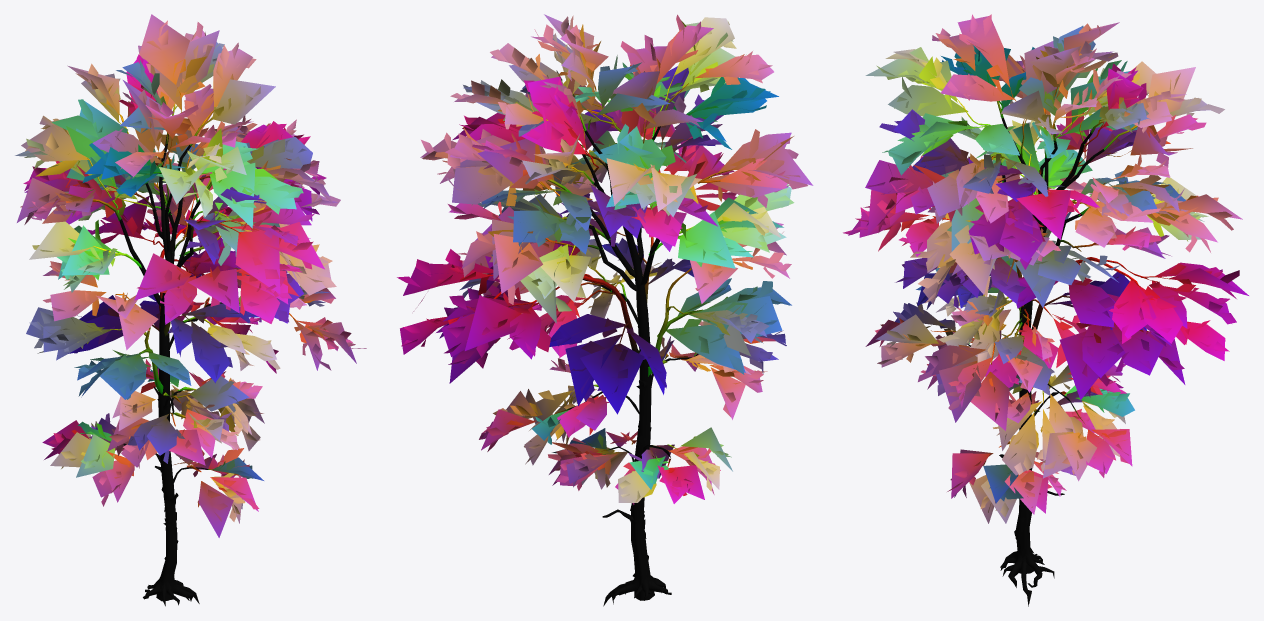
The model's file is SM_EuropeanBeech_L_02.fbx.
The picture shows the model from 3 angles, left to right: view 1: azimuth 30°, elevation 25°; view 2: azimuth 150°, elevation 25°; view 3: azimuth 270°, elevation 25°; orthographic projection. The views are drawn at different scales.
Visible parts, largest first — view 1: SM_EuropeanBeech_L_02_LOD0; view 2: SM_EuropeanBeech_L_02_LOD0; view 3: SM_EuropeanBeech_L_02_LOD0.
Boxes of the visible parts, x1,y1,x2,y2 form: SM_EuropeanBeech_L_02_LOD0: [15, 14, 366, 606]; SM_EuropeanBeech_L_02_LOD0: [397, 14, 813, 606]; SM_EuropeanBeech_L_02_LOD0: [843, 14, 1248, 606].
Size of what is drawn, in the model's own units: 819 by 851 by 1343.
